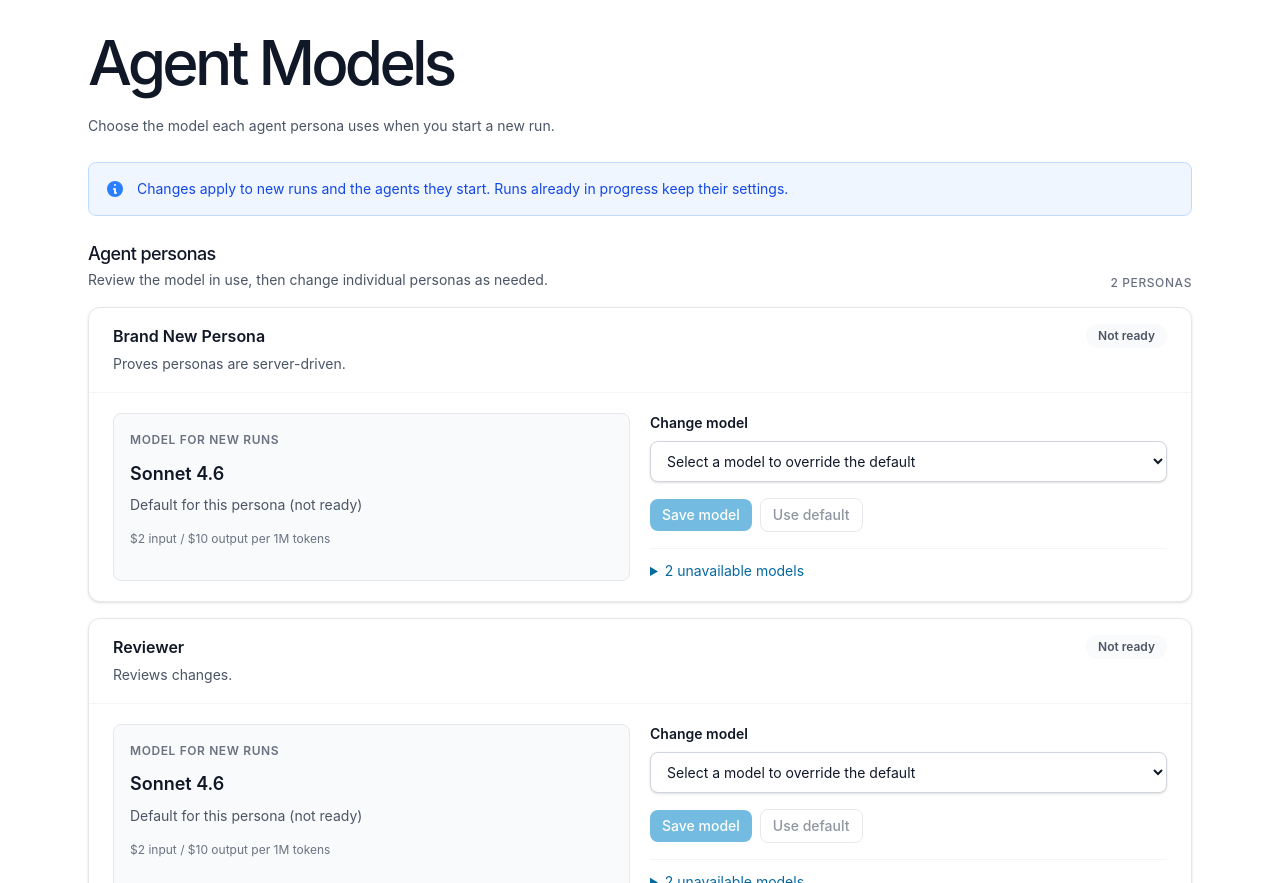
Test case: Agent Models page — issue #5422 › keeps a successful row when a different row save is refused
The image size is (1280, 883).
Select "Haiku 4.5" in the dropdown named "Model for" at (908, 462), box left=650, top=441, right=1167, bottom=482
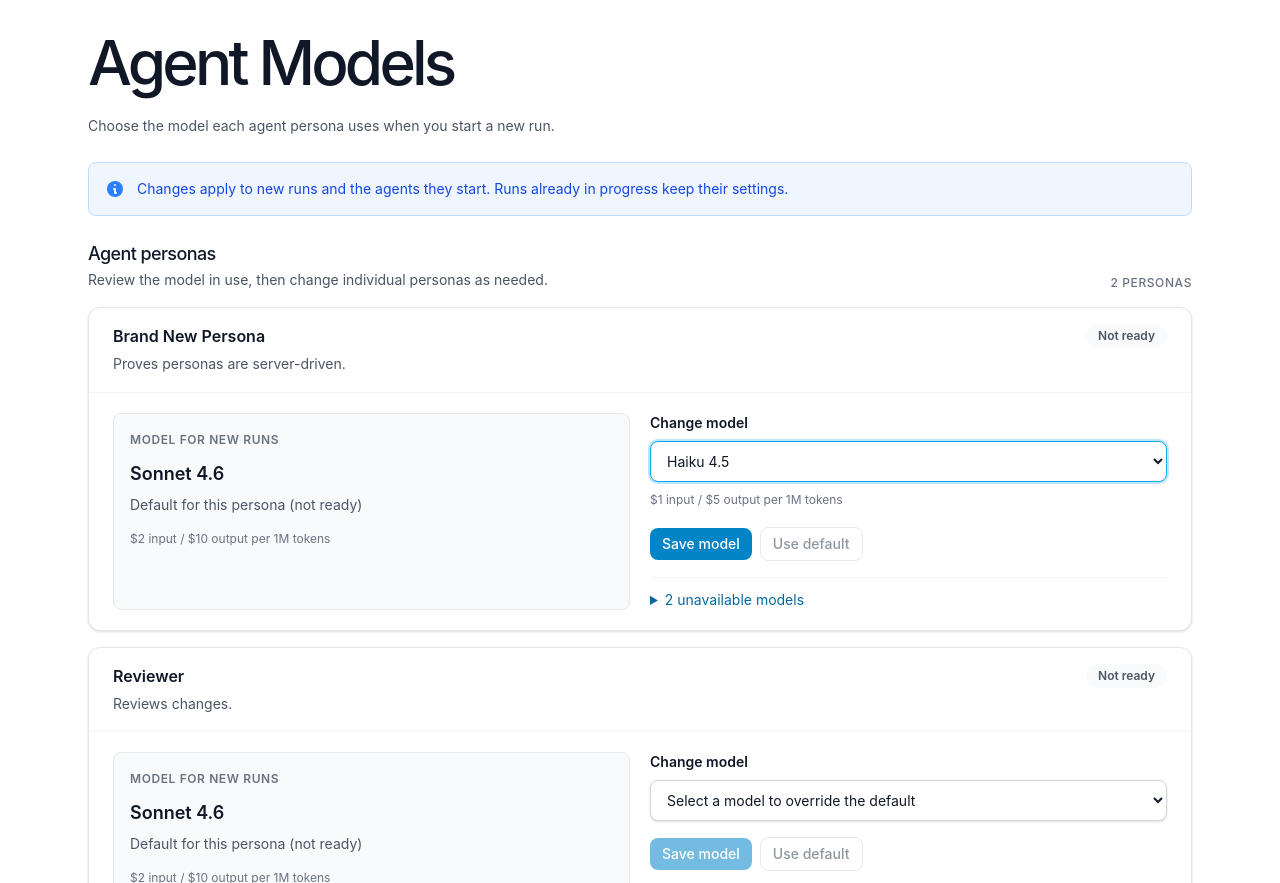
Check: the button "Save model" below "$1 input / $5 output per 1M tokens" is enabled
Click the button "Save model" below "$1 input / $5 output per 1M tokens" at (701, 544), box left=650, top=528, right=752, bottom=560
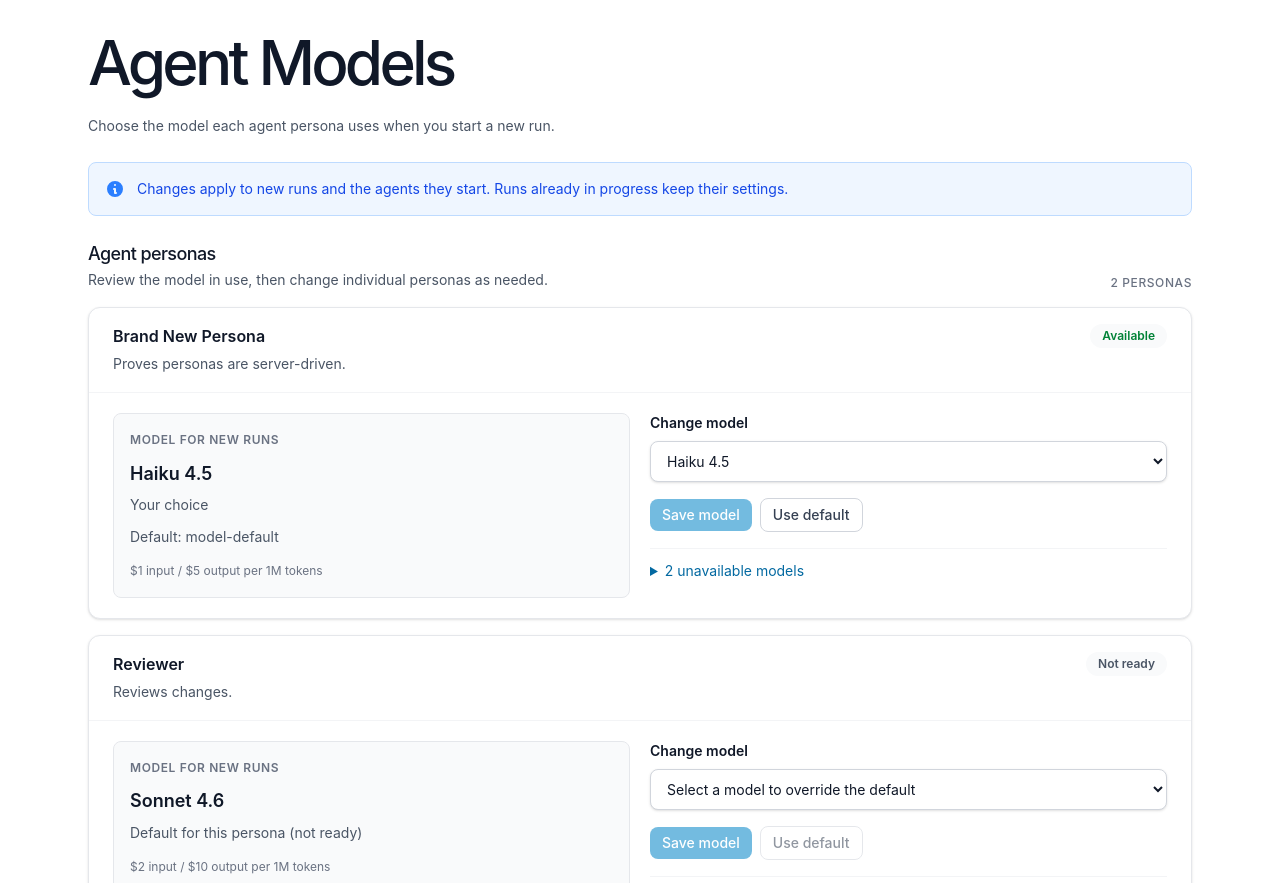
Check: the text "Your choice" is shown, box left=130, top=496, right=208, bottom=513
Select "Haiku 4.5" in the dropdown named "Model for" at (908, 789), box left=650, top=769, right=1167, bottom=810
(page scrolled)
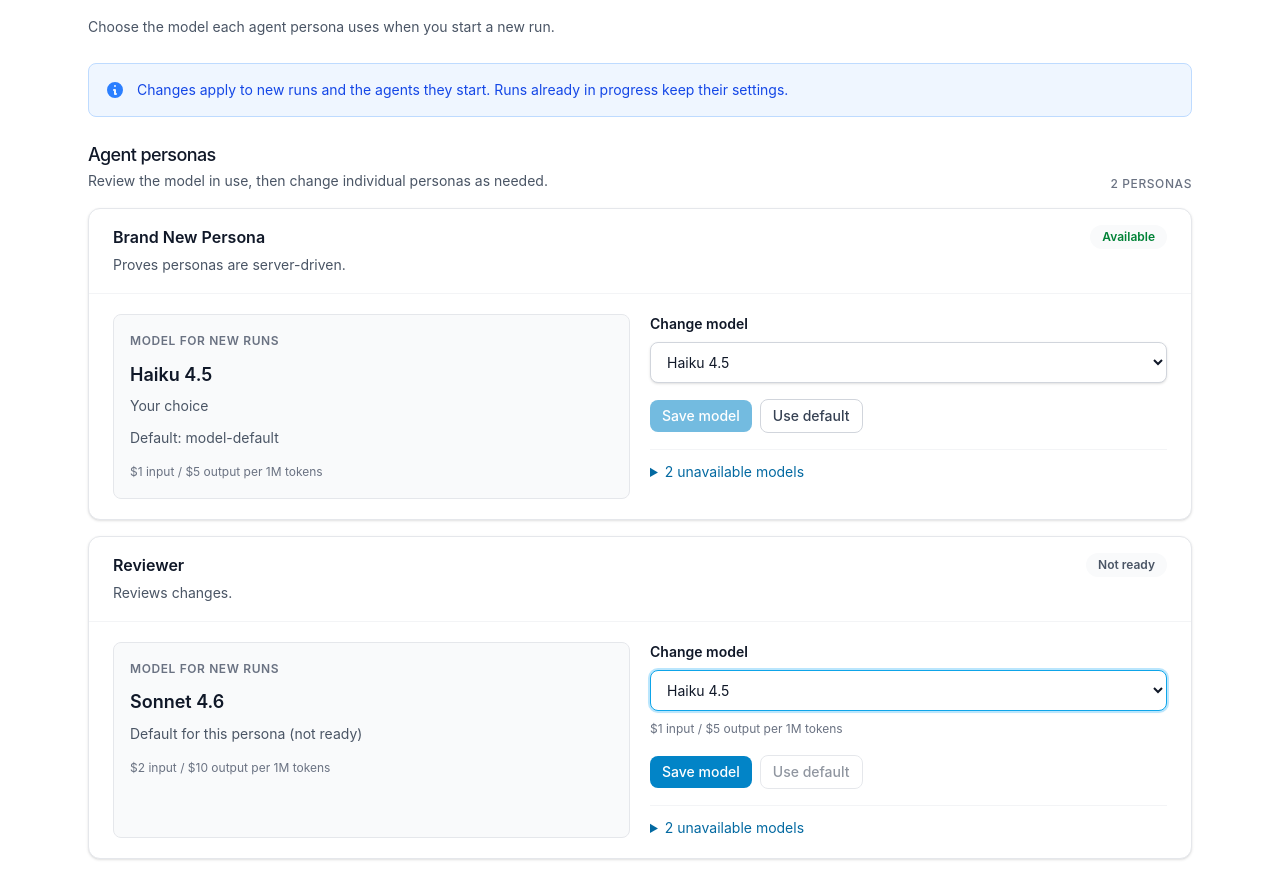
Check: the button "Save model" in the row of "$2 input / $10 output per 1M tokens" is enabled
Click the button "Save model" in the row of "$2 input / $10 output per 1M tokens" at (701, 772), box left=650, top=756, right=752, bottom=788
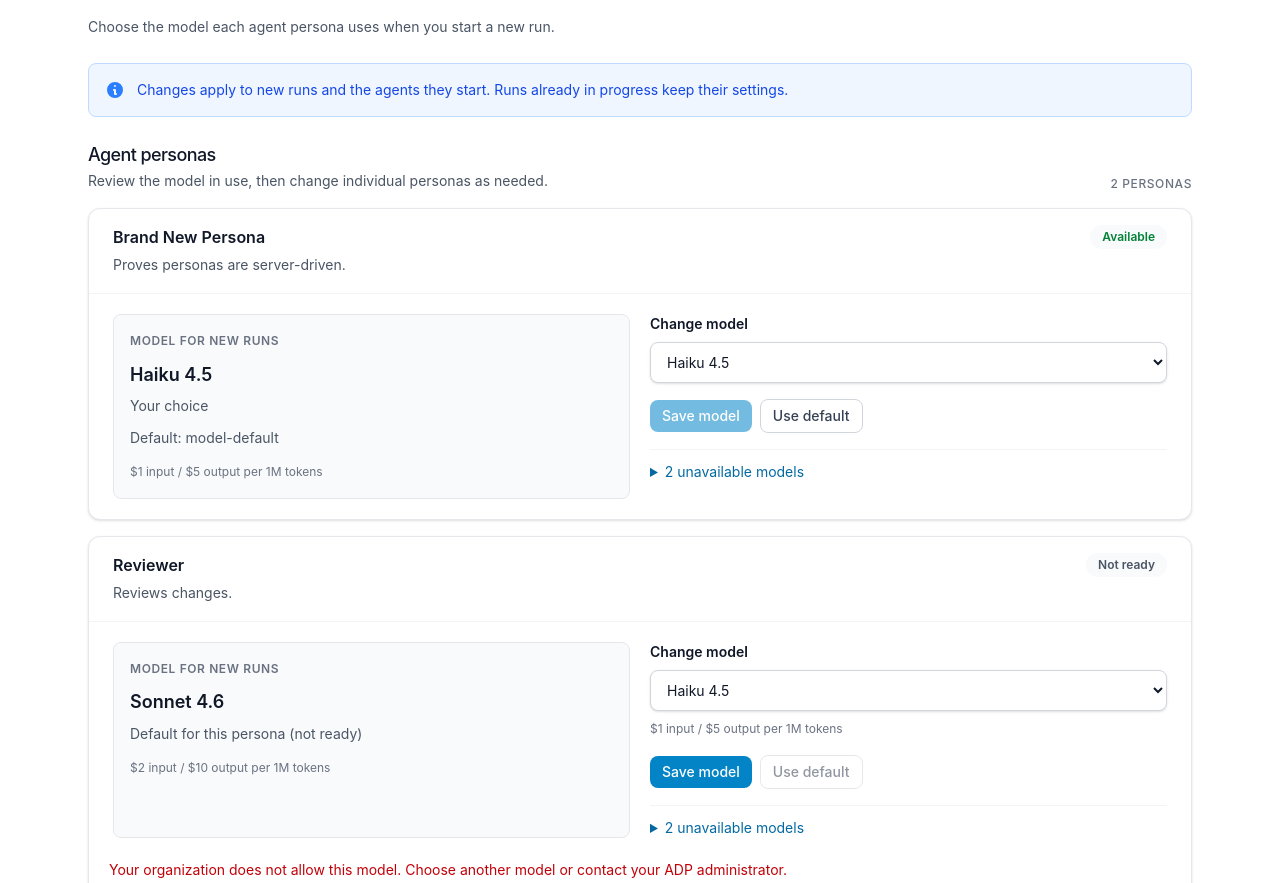
Check: the text "Your choice" is shown, box left=130, top=397, right=208, bottom=414
Check: the text "Your organization does not allow this model" is shown, box left=109, top=861, right=787, bottom=878
